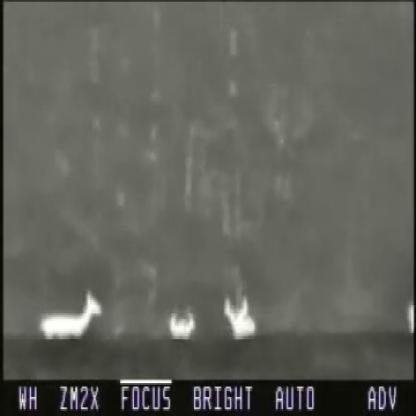rehkitze: (35, 292, 102, 340), (222, 294, 256, 341), (167, 307, 199, 340), (406, 297, 413, 338)
